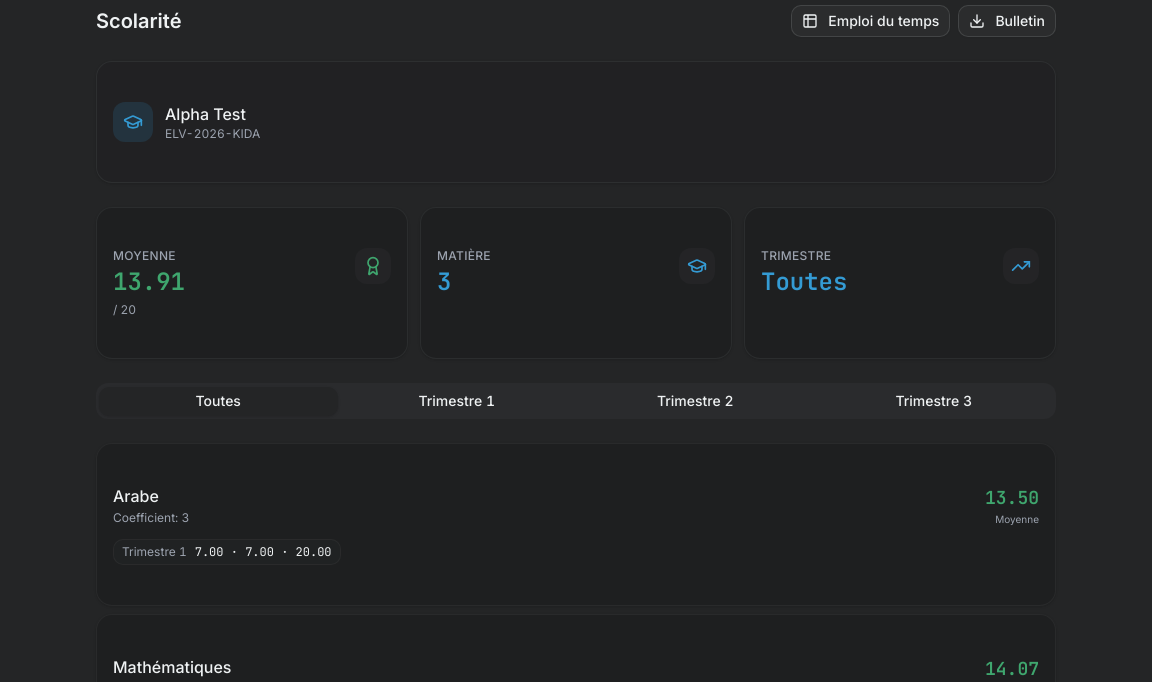
Scenario: T-336 — term-scoped KPIs (desktop parity) › selecting "Trimestre 2" scopes the KPI to T2 and shows the partial-marks hint
Press the mouse on the tab "Trimestre 2" at [695, 401], box [576,386,814,416]
(page scrolled)
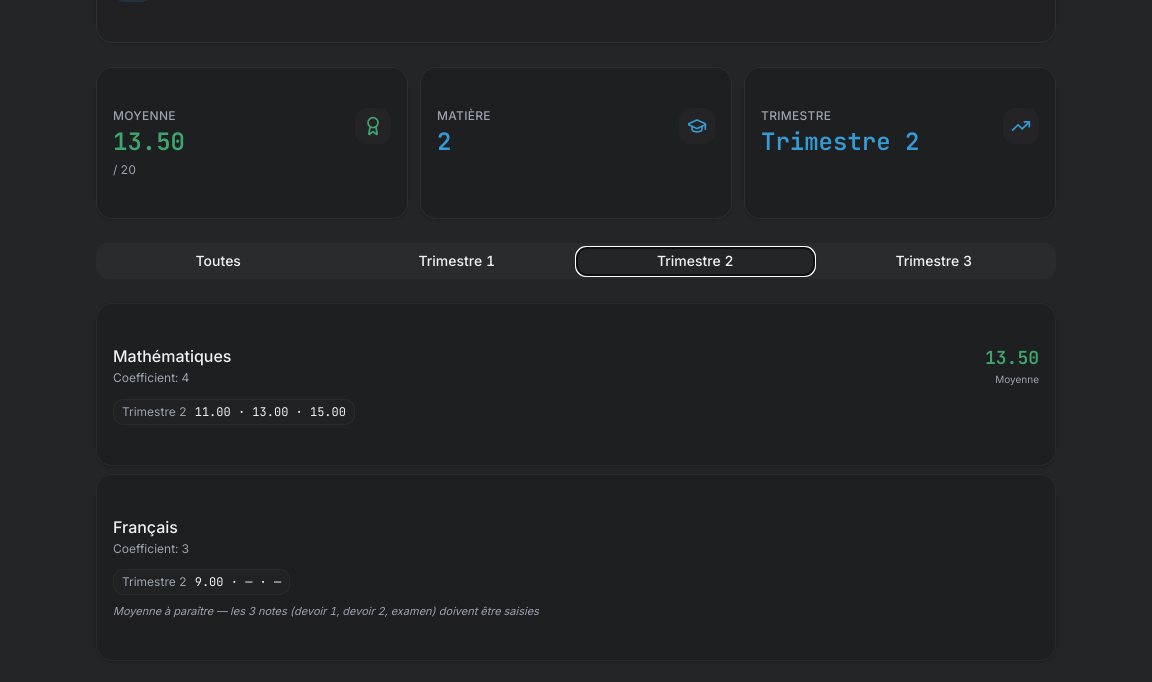
expect the text "13.50" is shown 2 times: met, box [113,126,185,157]; [985,344,1039,372]
expect the text "Arabe" is gone: met
